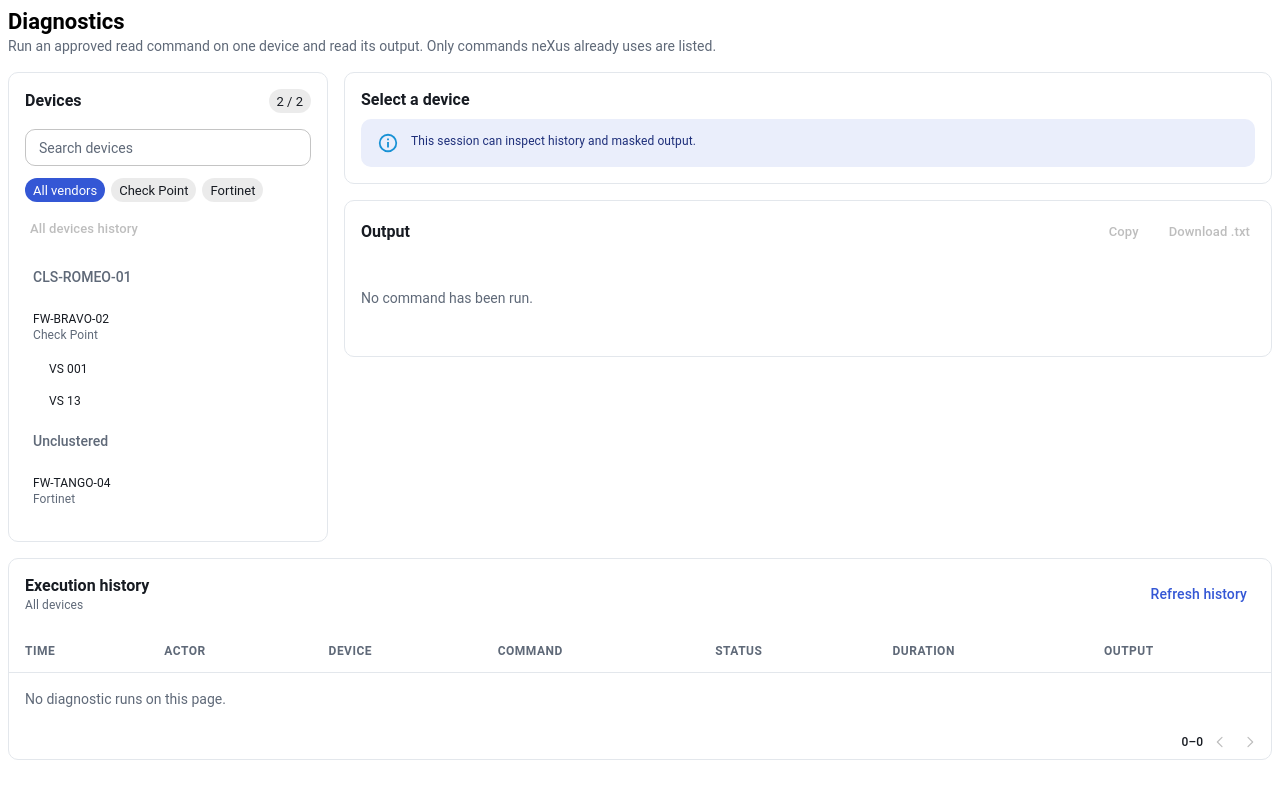
Test case: honors server canExecute while retaining masked history and has no client role literals
The width and height of the screenshot is (1280, 800).
Click the button "FW-TANGO-04 Fortinet". click: x=72, y=491
box: x1=33 y1=476 x2=111 y2=506
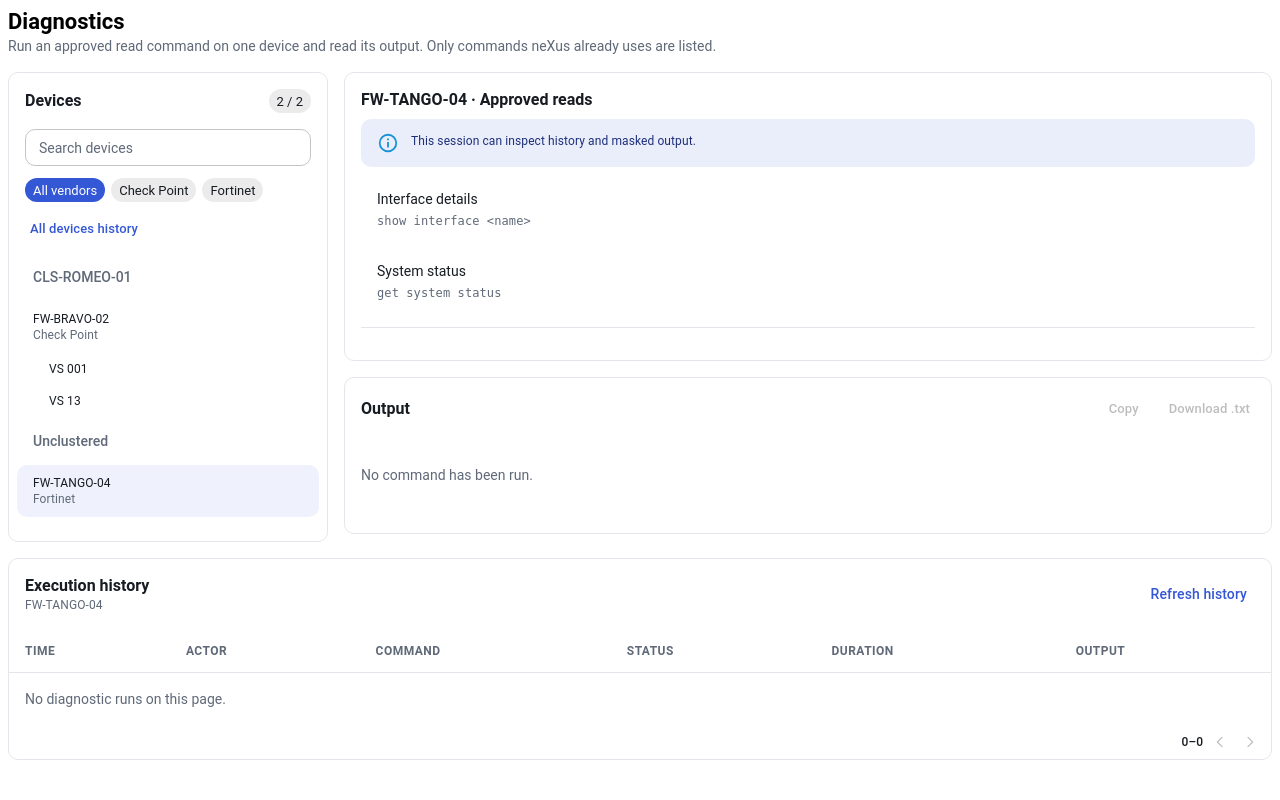
Click the button "System status get system status". click: x=439, y=282
box: x1=377 y1=263 x2=502 y2=300
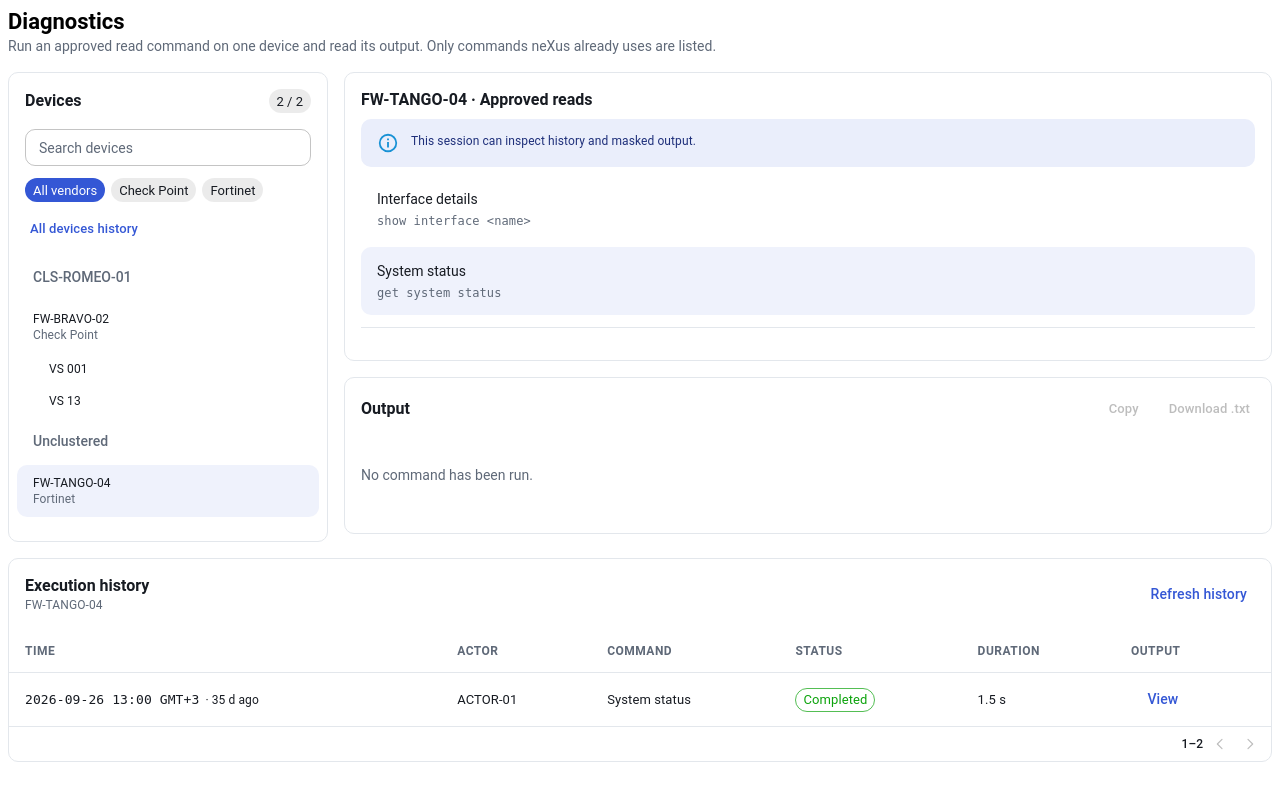
Click the button "View". click: x=1163, y=700
box: x1=1131 y1=681 x2=1195 y2=718
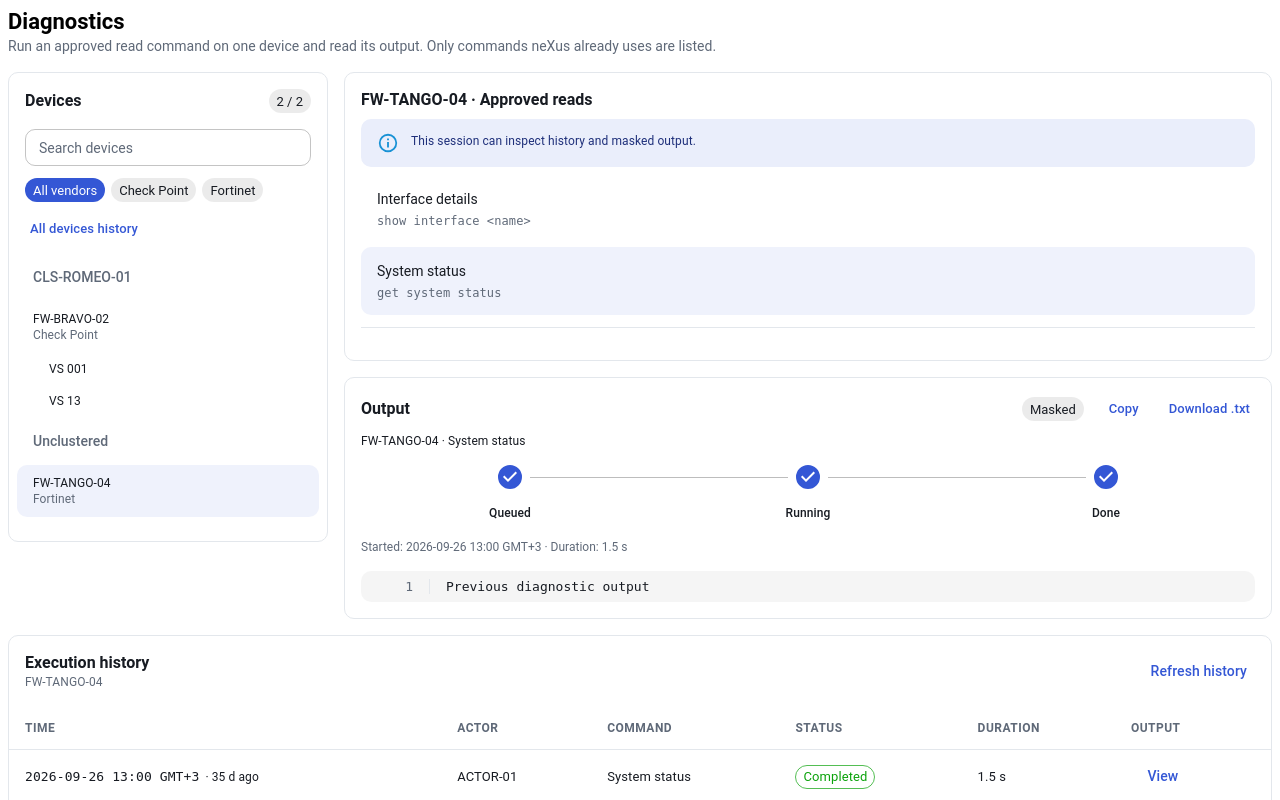
Check: the text "Masked" is shown, box x1=1030 y1=402 x2=1076 y2=417
